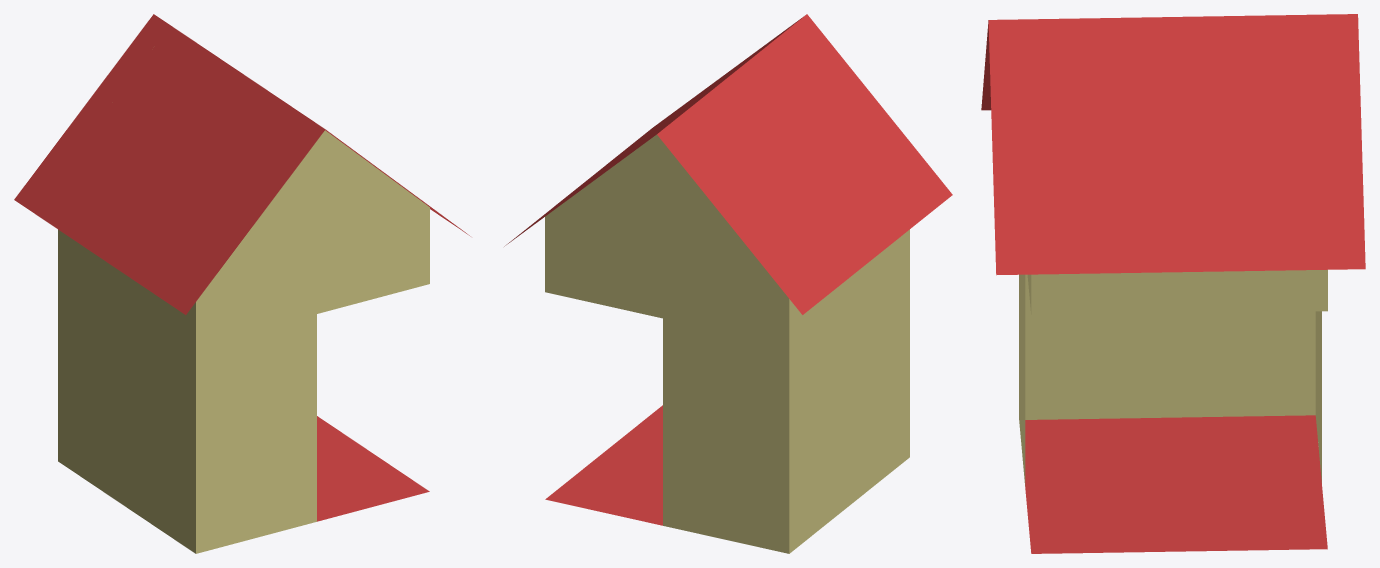
The picture shows the model from 3 angles, left to right: view 1: azimuth 30°, elevation 25°; view 2: azimuth 150°, elevation 25°; view 3: azimuth 270°, elevation 25°; orthographic projection. The views are drawn at different scales.
Parts seen in each view (by area): view 1: group_5, group_3, group_6, group_4; view 2: group_5, group_3, group_6, group_4; view 3: group_3, group_5, group_6.
Boxes of the visible parts, x1,y1,x2,y2 form: group_5: [58, 130, 429, 553]; group_3: [14, 15, 325, 314]; group_6: [317, 416, 429, 521]; group_4: [92, 14, 470, 314]; group_5: [545, 134, 909, 553]; group_3: [504, 14, 952, 314]; group_6: [545, 405, 662, 525]; group_4: [657, 15, 952, 224]; group_3: [981, 14, 1365, 274]; group_5: [1019, 269, 1327, 486]; group_6: [1025, 415, 1327, 553].
Bounding box in the file's own units: 11.07 × 10.53 × 14.06.
